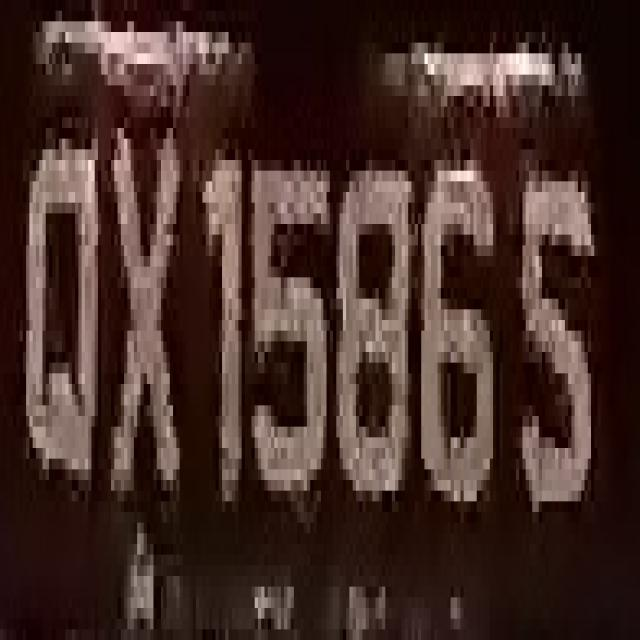1: (203, 107, 248, 533)
5: (415, 117, 506, 544), (252, 107, 336, 533)
8: (330, 128, 414, 555)
Q: (19, 106, 108, 522)
S: (513, 160, 604, 544)
X: (104, 64, 192, 523)
